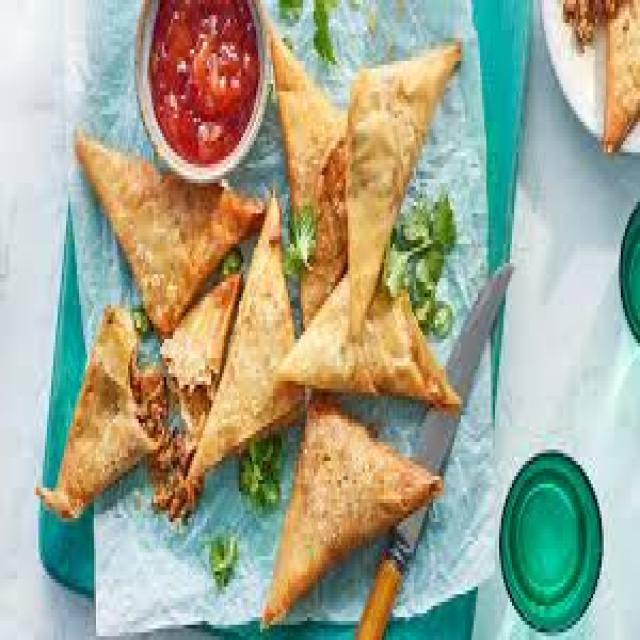SAMOSA: (260, 395, 443, 632), (68, 127, 267, 341), (182, 188, 311, 486), (348, 37, 461, 340)
